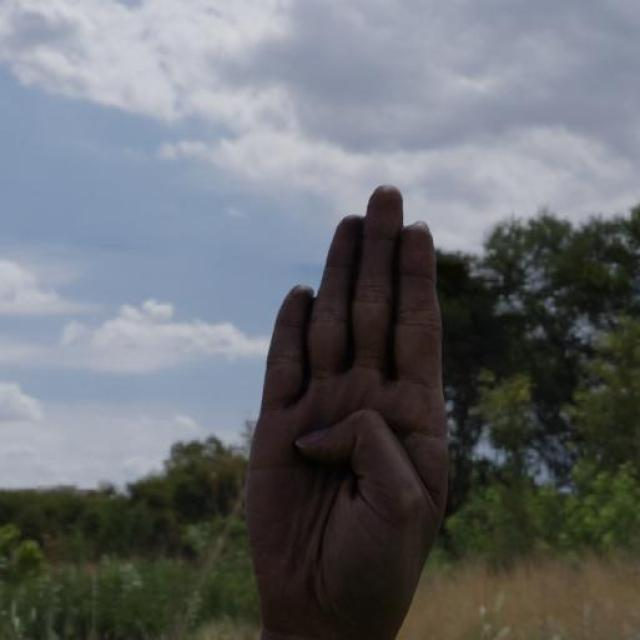B: (233, 176, 462, 640)
